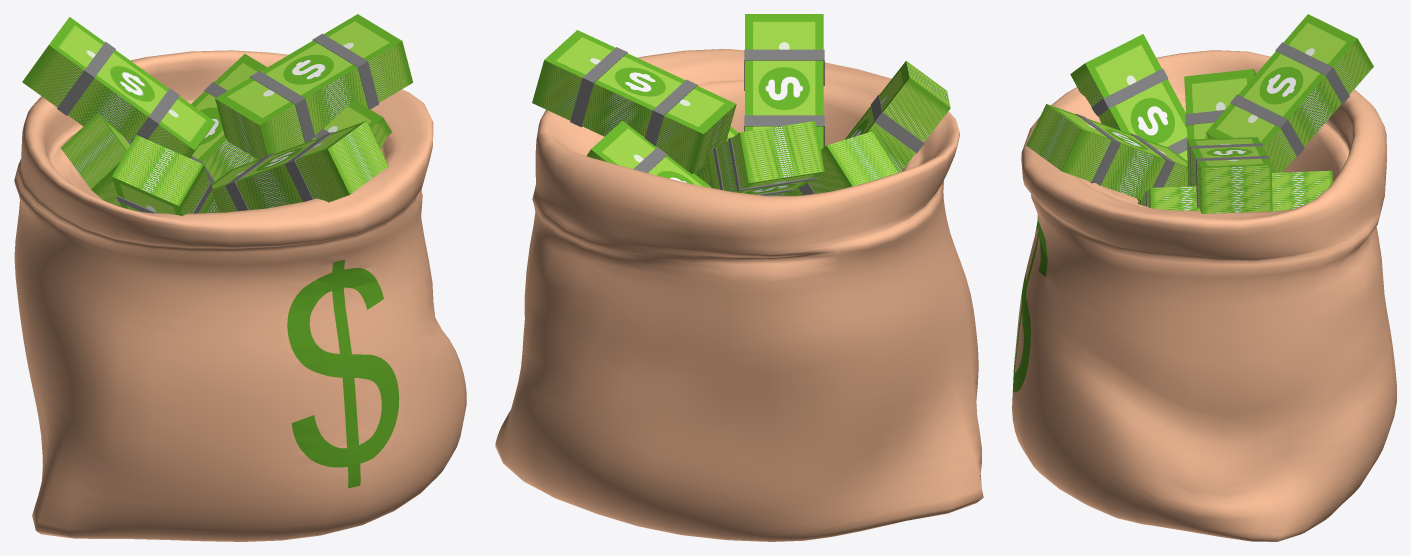
File: moneybag.fbx
The picture shows the model from 3 angles, left to right: view 1: azimuth 30°, elevation 25°; view 2: azimuth 150°, elevation 25°; view 3: azimuth 270°, elevation 25°; orthographic projection. The views are drawn at different scales.
Parts seen in each view (by area): view 1: box, Box1924, Box1930, Box1927, Box1928, Box1929, Box1926, Box1925; view 2: box, Box1924, Box1927, Box1930, Box1928, Box1929, Box1926; view 3: box, Box1930, Box1927, Box1928, Box1924, Box1929, Box1926, Box1925.
Part boxes in pixels (x1,y1,x2,y2): box: [14, 50, 466, 541]; Box1924: [215, 14, 412, 159]; Box1930: [22, 17, 215, 157]; Box1927: [211, 121, 388, 212]; Box1928: [112, 135, 218, 216]; Box1929: [61, 113, 131, 206]; Box1926: [190, 54, 267, 183]; Box1925: [312, 100, 392, 148]; box: [495, 49, 983, 541]; Box1924: [532, 30, 736, 173]; Box1927: [744, 14, 824, 149]; Box1930: [706, 121, 824, 195]; Box1928: [844, 61, 950, 172]; Box1929: [768, 131, 898, 195]; Box1926: [587, 120, 711, 187]; box: [1012, 50, 1396, 541]; Box1930: [1205, 14, 1373, 172]; Box1927: [1026, 104, 1187, 200]; Box1928: [1070, 34, 1187, 201]; Box1924: [1187, 137, 1272, 213]; Box1929: [1184, 69, 1256, 139]; Box1926: [1272, 170, 1332, 211]; Box1925: [1138, 186, 1200, 211].
Bounding box in the file's own units: 84.97 × 81.56 × 72.88.
